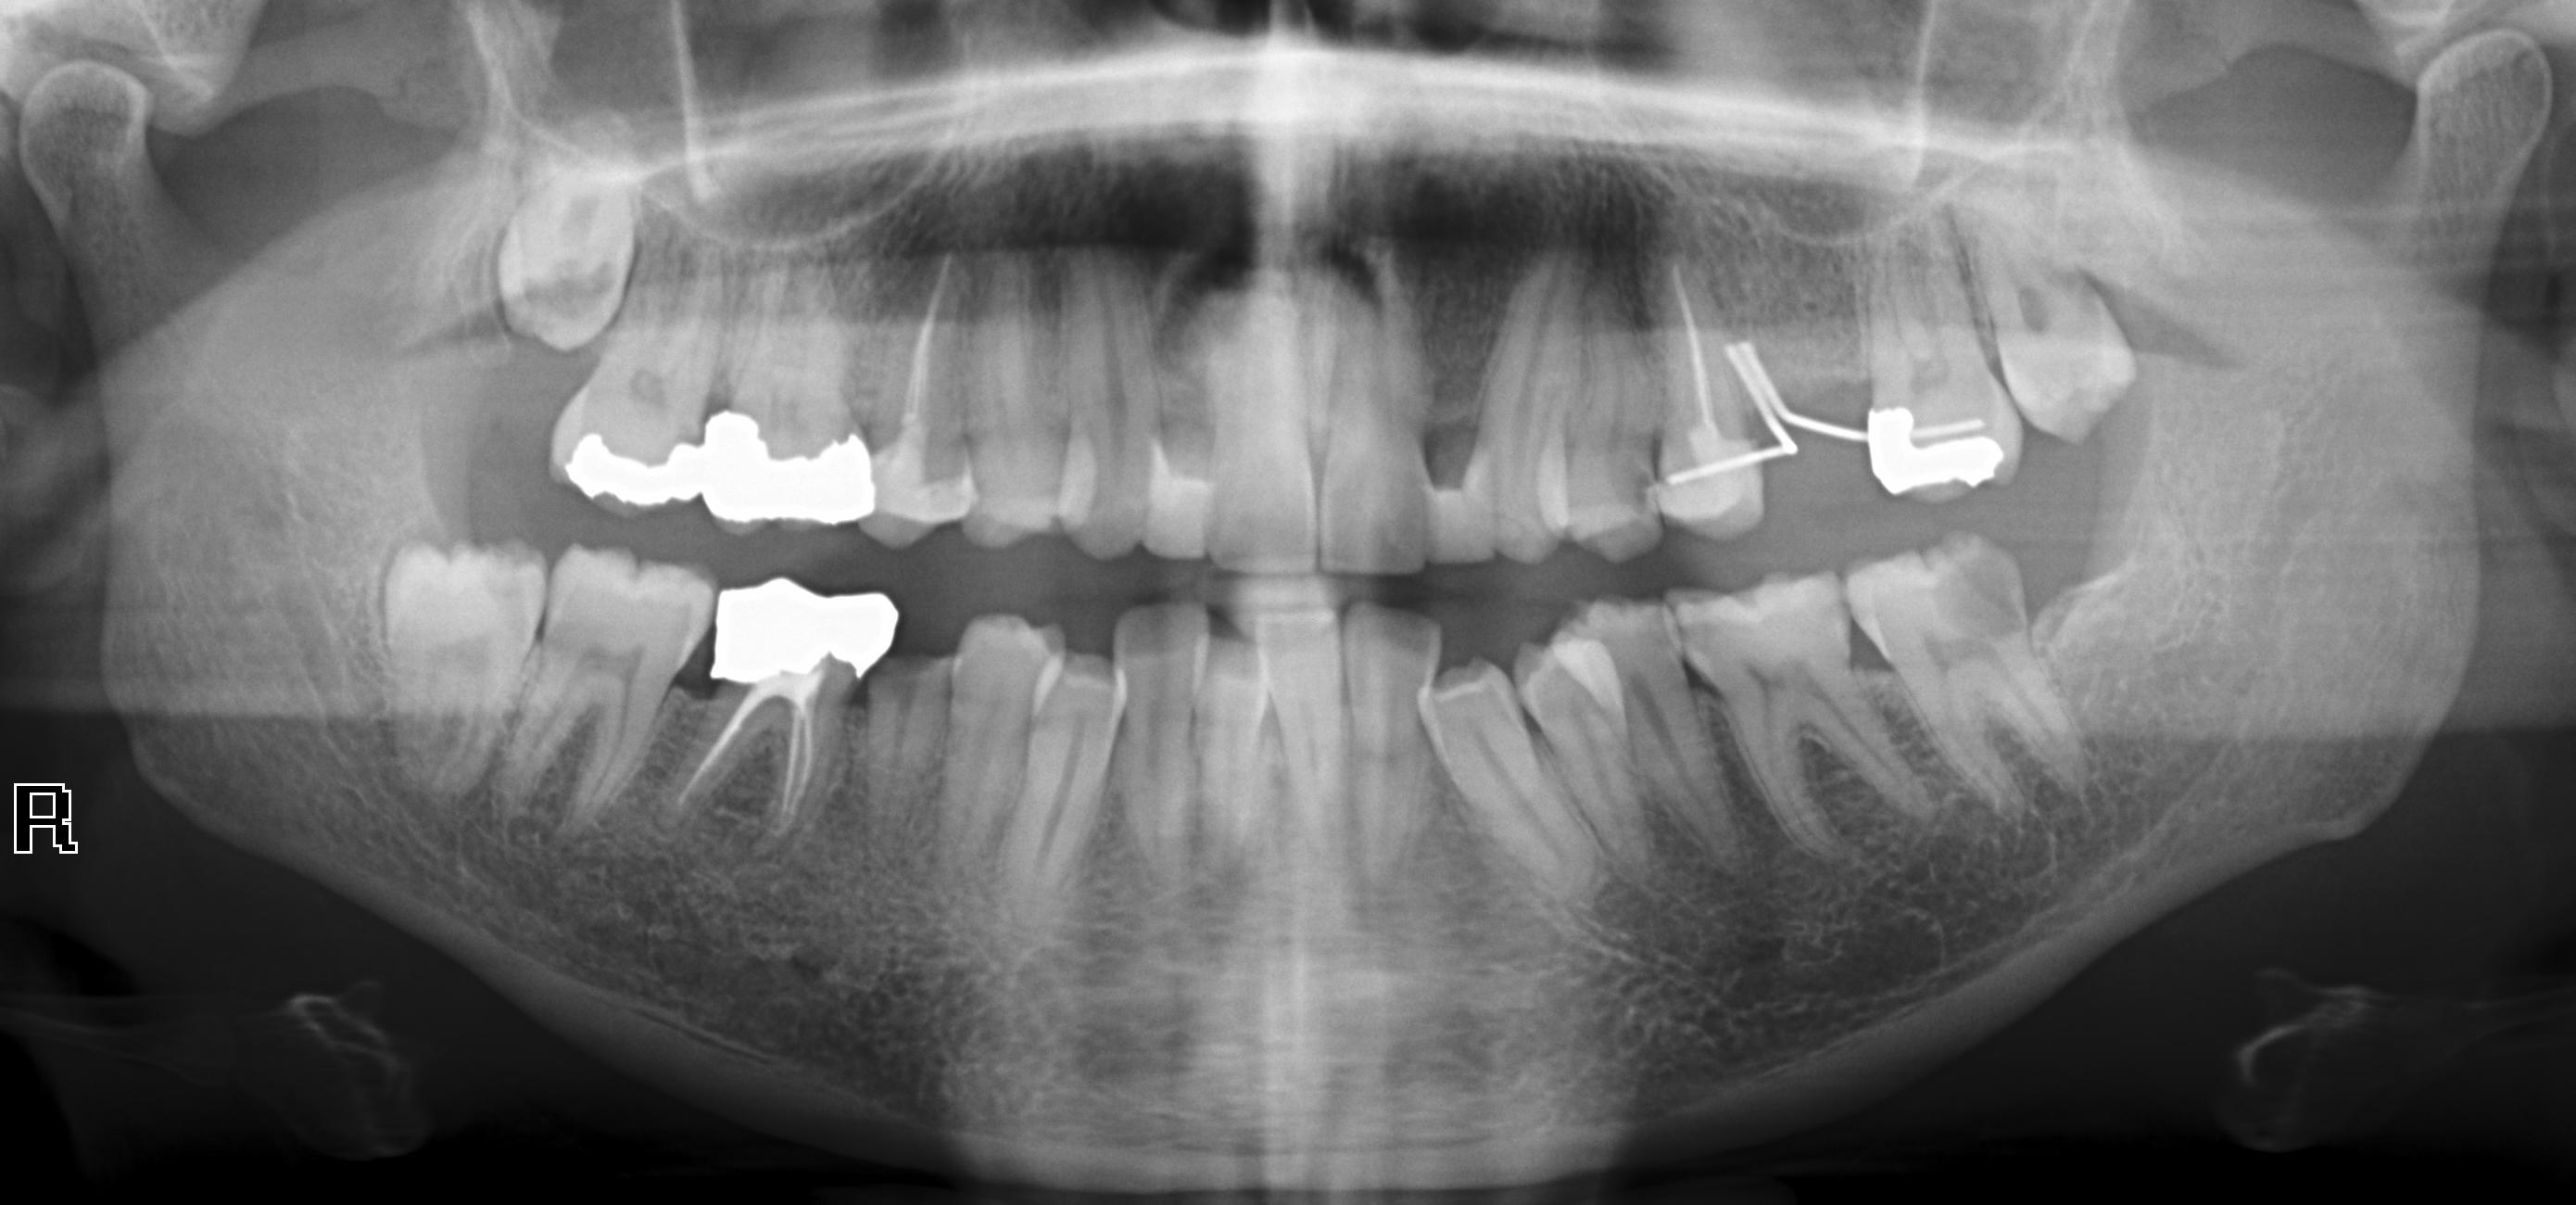Çürük: (700, 577, 909, 709), (705, 403, 876, 546), (542, 409, 708, 538), (1856, 395, 2004, 503), (1646, 431, 1786, 539)
Çürük Bölgesi: (1925, 539, 2034, 639), (874, 656, 935, 712)
